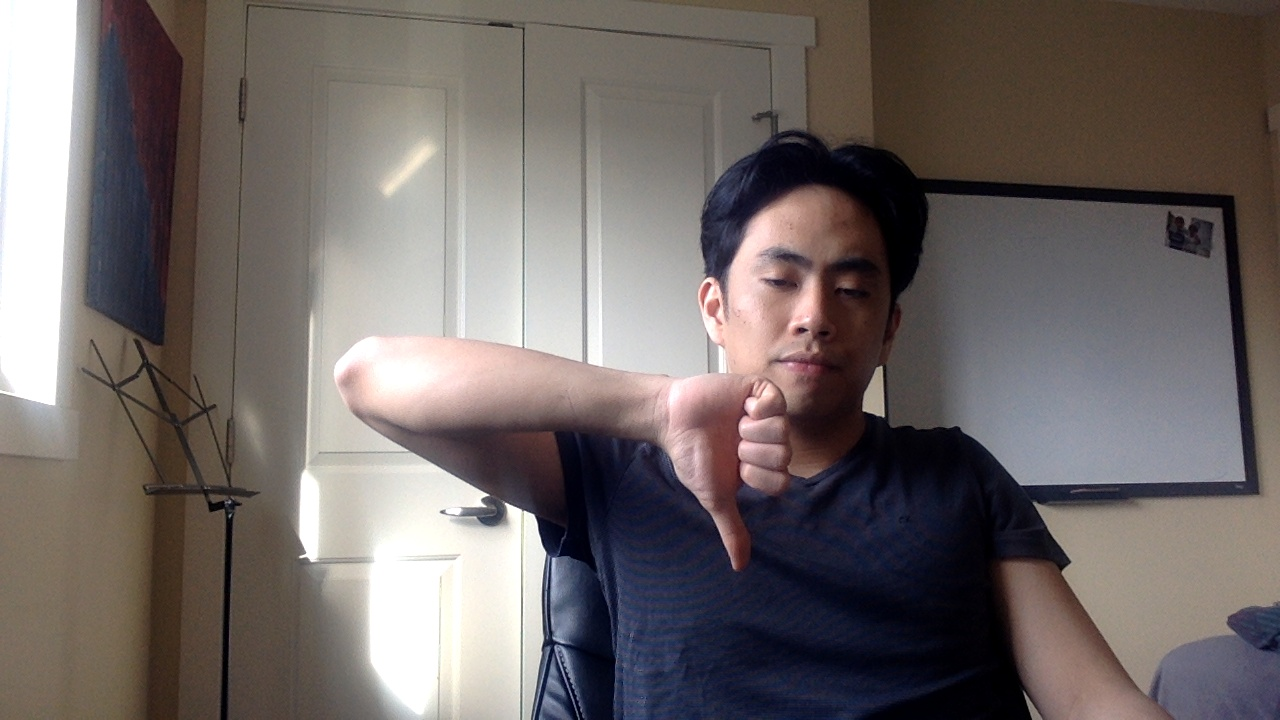ThumbsDown: (669, 371, 789, 575)
